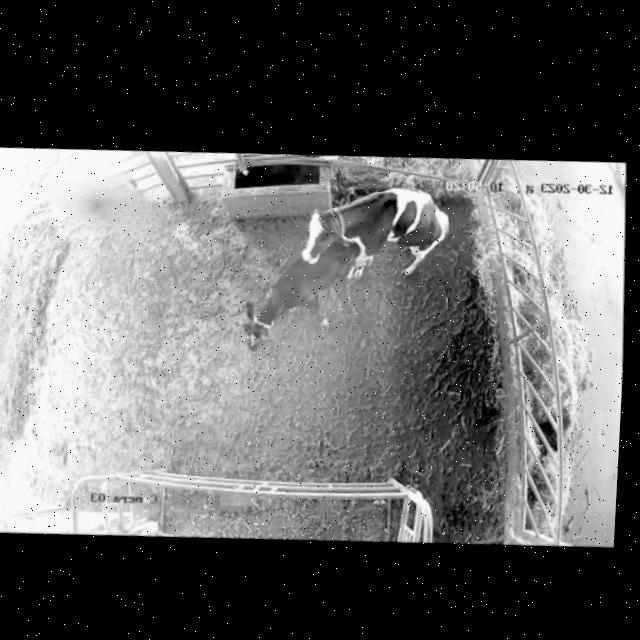ride: (282, 175, 463, 298)
stand: (218, 225, 374, 378)
